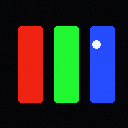0 point: (92, 40, 100, 48)
